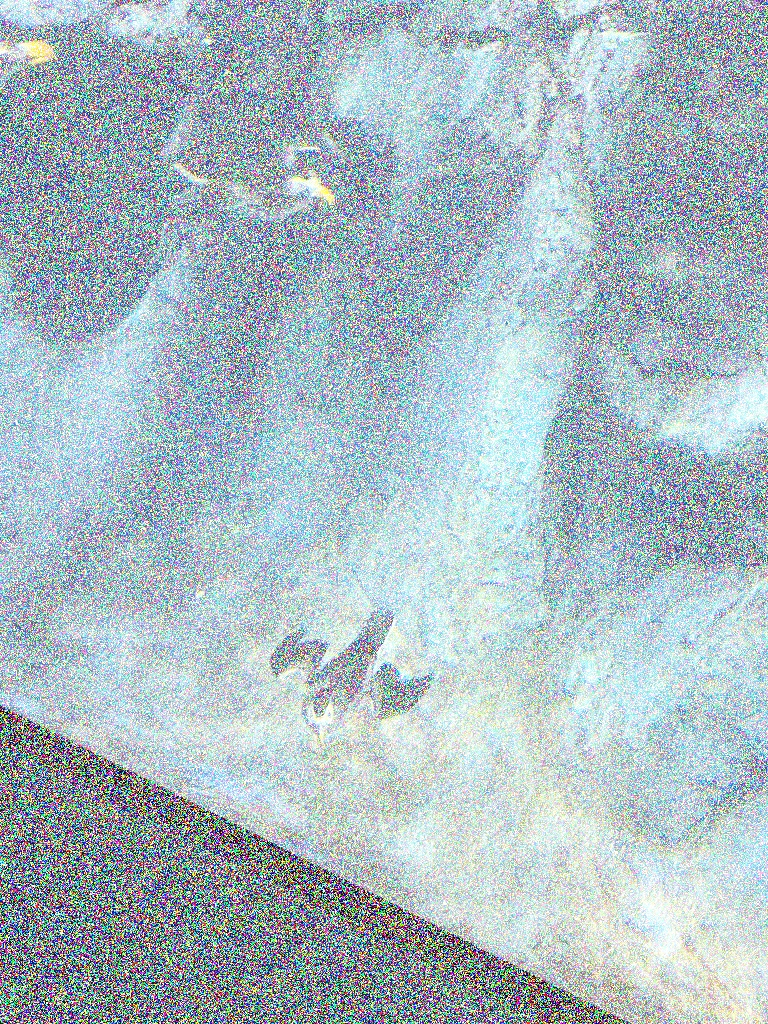puffin: (270, 608, 434, 750), (161, 130, 337, 222), (0, 35, 58, 95)
